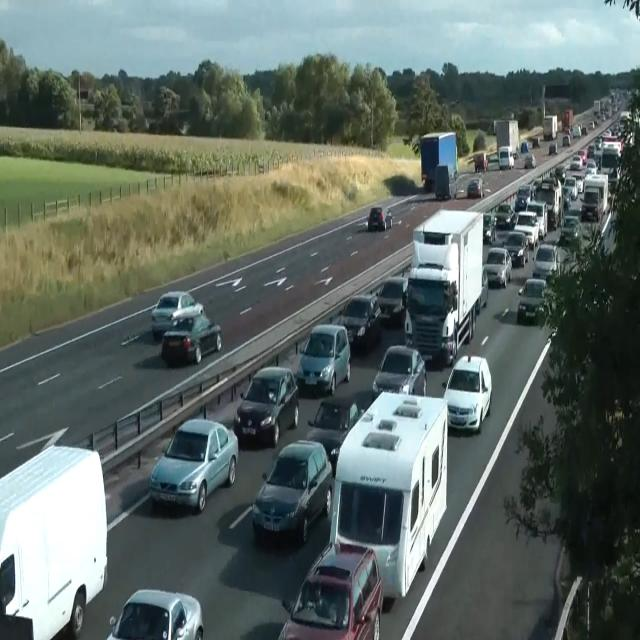bus: (277, 541, 383, 639), (148, 418, 238, 514), (252, 439, 332, 543), (233, 365, 299, 447), (106, 589, 204, 639), (306, 398, 364, 476), (296, 322, 350, 396), (442, 354, 492, 432), (160, 312, 222, 365), (372, 344, 426, 401), (332, 294, 382, 348), (151, 290, 205, 338), (372, 276, 408, 324), (516, 276, 548, 322), (482, 247, 512, 288), (532, 243, 560, 281), (596, 212, 618, 260), (513, 210, 539, 250), (502, 231, 528, 267), (560, 215, 580, 244), (494, 202, 516, 228), (514, 185, 534, 211), (556, 244, 572, 276), (368, 206, 386, 231), (482, 214, 497, 244), (466, 178, 484, 198), (563, 176, 578, 200), (480, 266, 488, 308), (473, 152, 488, 172), (487, 153, 499, 170), (585, 159, 597, 176), (570, 154, 582, 170), (524, 153, 536, 168), (548, 142, 558, 155), (521, 140, 529, 153), (562, 135, 570, 147)
car: (328, 389, 448, 599)
minibus: (0, 443, 108, 639), (403, 208, 483, 365), (420, 131, 458, 198), (580, 172, 608, 222), (494, 119, 519, 159), (542, 114, 557, 140), (498, 146, 514, 170)
